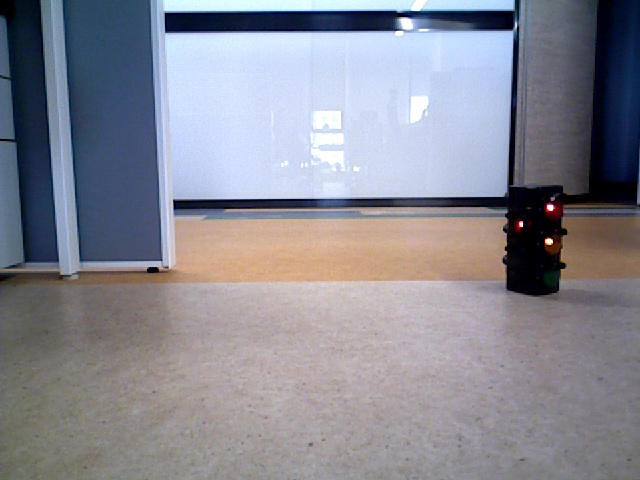red: (510, 191, 558, 290)
